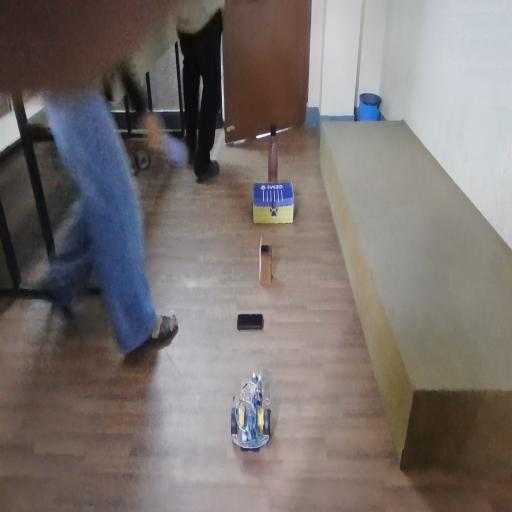Bottle: (270, 109, 280, 171)
car: (232, 365, 276, 438)
